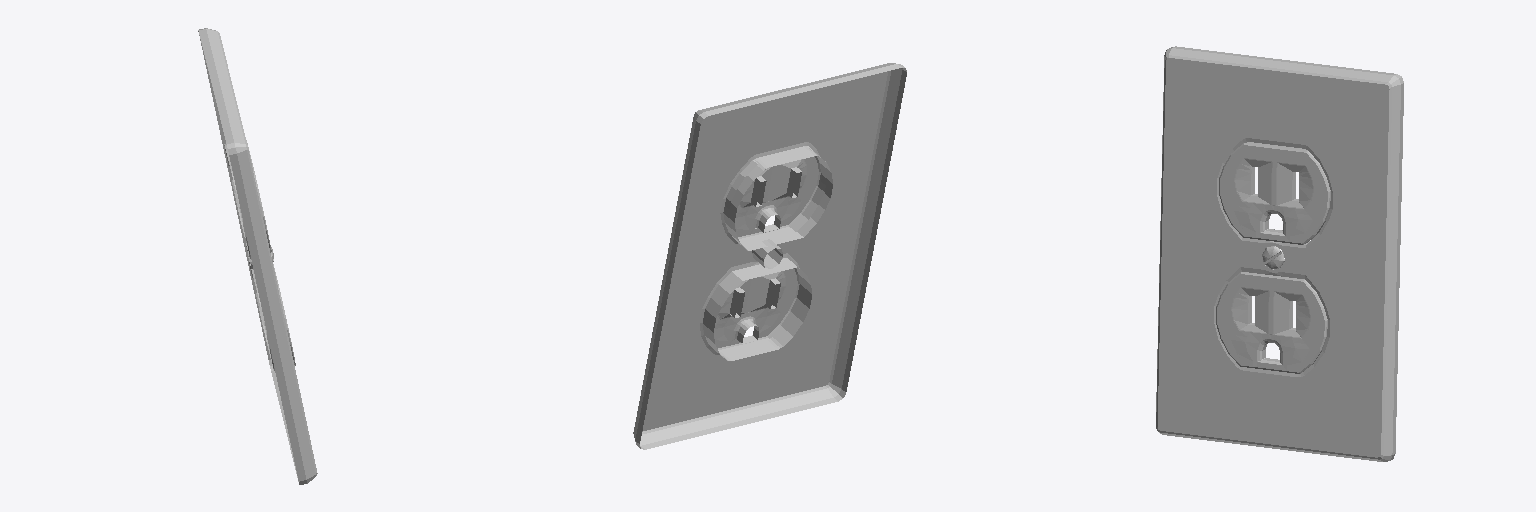
The model's file is Outlet3DModel.obj.
The picture shows the model from 3 angles: view 1: azimuth 30°, elevation 25°; view 2: azimuth 150°, elevation 25°; view 3: azimuth 270°, elevation 25°; orthographic projection.
Parts seen in each view (by area): view 1: WallSocket; view 2: WallSocket; view 3: WallSocket.
Boxes of the visible parts, x1=… form: WallSocket: x1=198, y1=28, x2=317, y2=484; WallSocket: x1=633, y1=63, x2=906, y2=449; WallSocket: x1=1156, y1=46, x2=1403, y2=461.
Bounding box in the file's own units: 5.96 × 12.58 × 7.7.